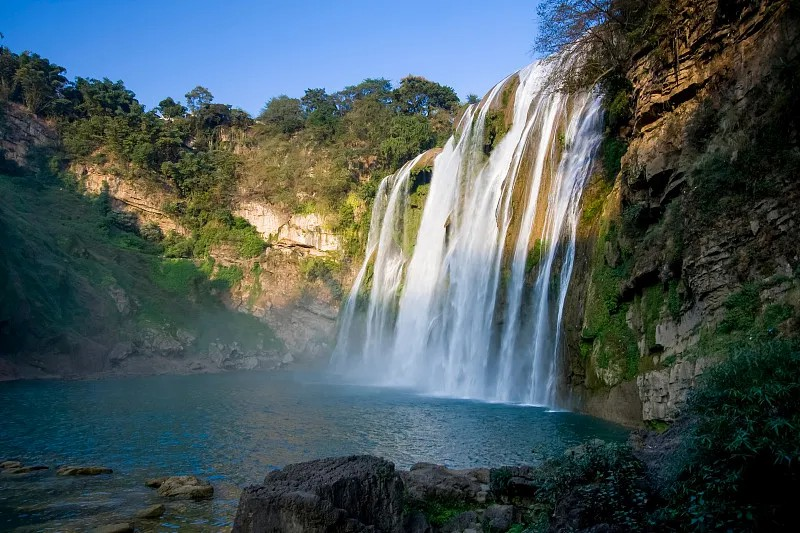Huangguoshu: (332, 52, 607, 403)
